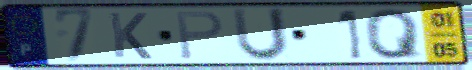1: (335, 8, 365, 61)
7: (52, 7, 96, 66)
K: (106, 11, 155, 61)
P: (174, 9, 226, 62)
Q: (362, 7, 425, 61)
U: (230, 7, 291, 64)
